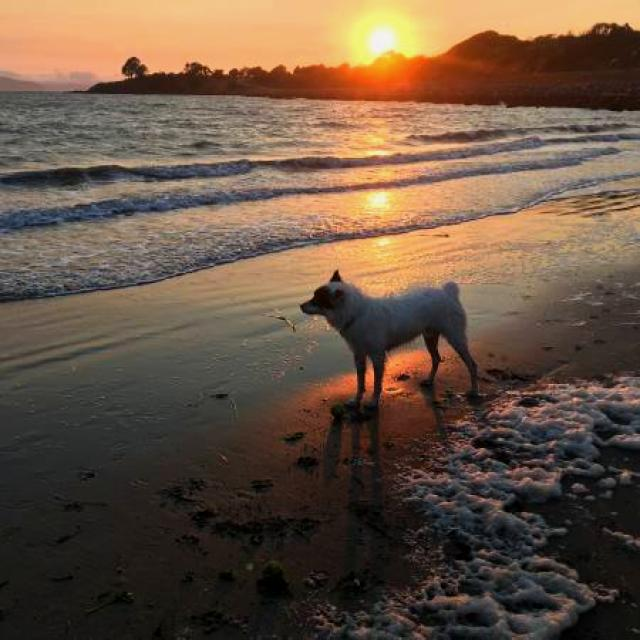Dog: (320, 270, 520, 447)
